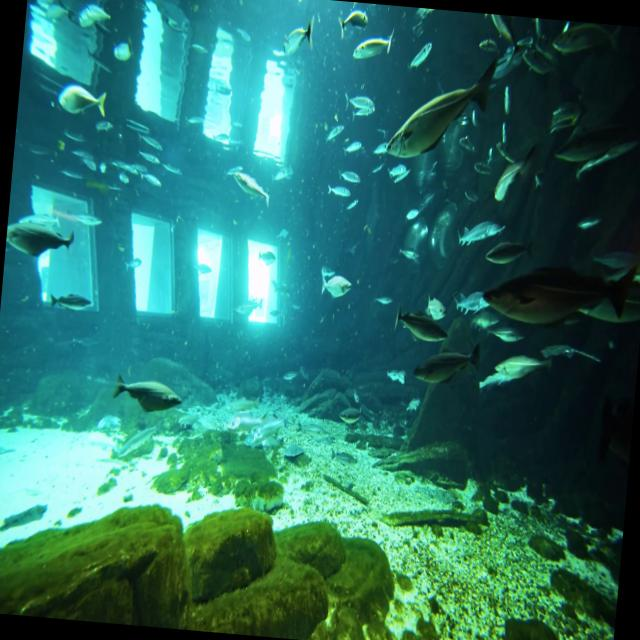fish: (379, 46, 501, 165), (482, 251, 634, 333), (5, 210, 76, 267), (416, 334, 484, 388), (392, 297, 454, 349), (114, 375, 180, 417), (58, 80, 110, 117)
